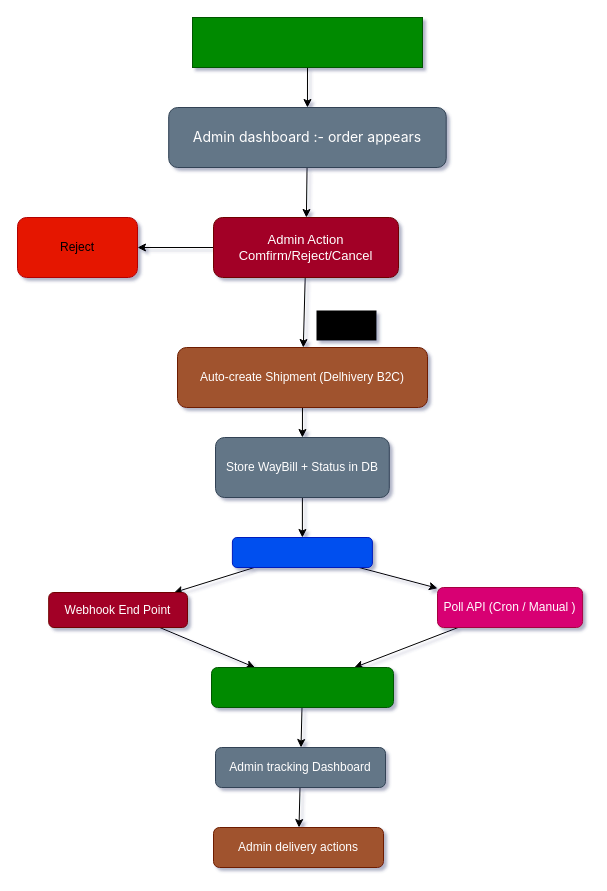
Image size: 607x891. Some labels were removed from this diagram. The shapes that lost their labels are listed below. From the top down, each one's box as (x1, y1, x2, y2) in pixels, then its label:
(192, 16, 422, 68): User places order
(316, 310, 376, 340): Confirm
(231, 536, 372, 568): Status Sync - Two Path
(210, 666, 394, 708): Update Order delivery Status
